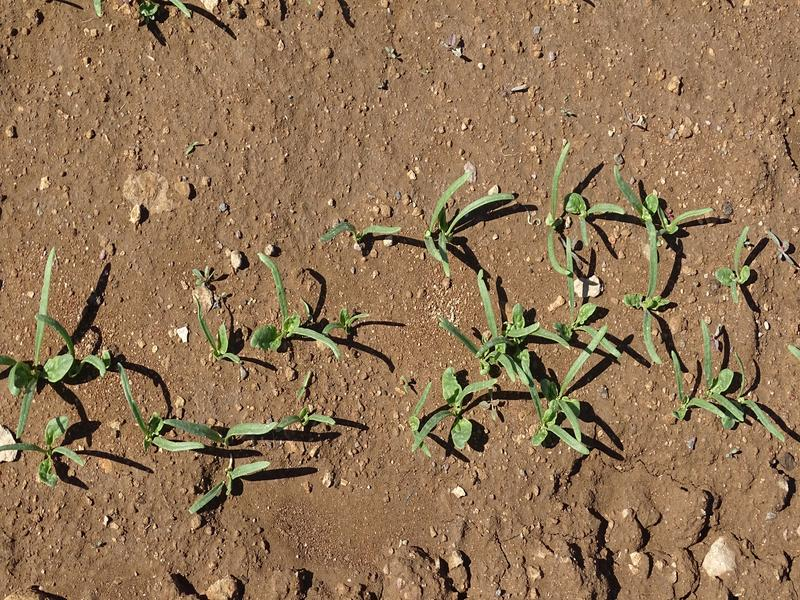Espinaca: (416, 162, 789, 463), (126, 253, 376, 516), (2, 251, 110, 487), (318, 215, 400, 249)
